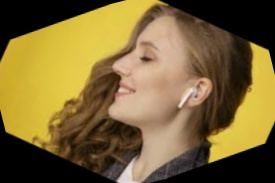earphone: (165, 64, 226, 125)
